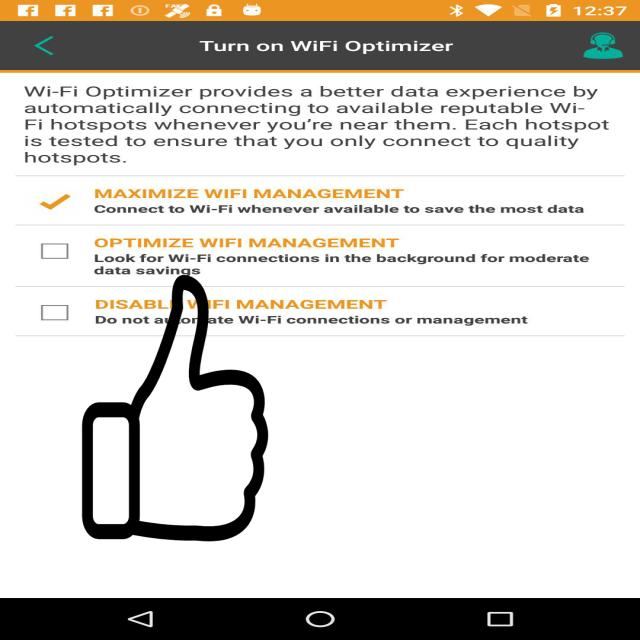privacy zuckering: (79, 275, 271, 541)
